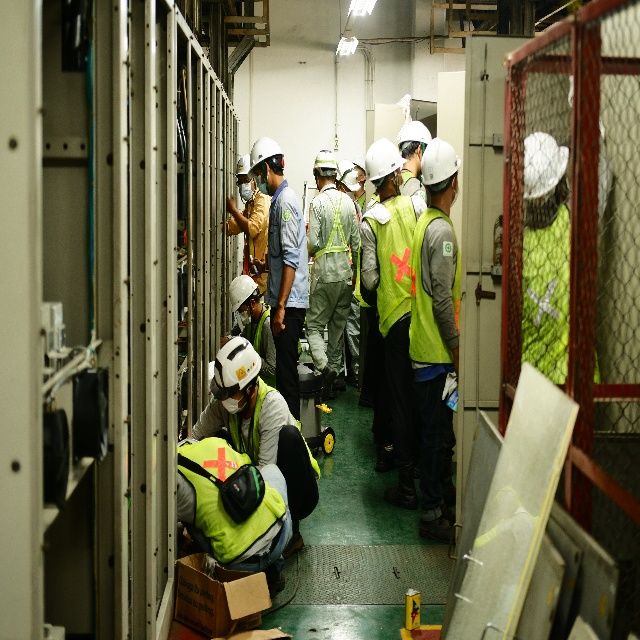Mascara: (221, 396, 244, 414), (237, 181, 253, 200), (256, 171, 266, 194), (239, 310, 251, 324)
Sin_guantes: (272, 308, 285, 337), (226, 193, 236, 214)
